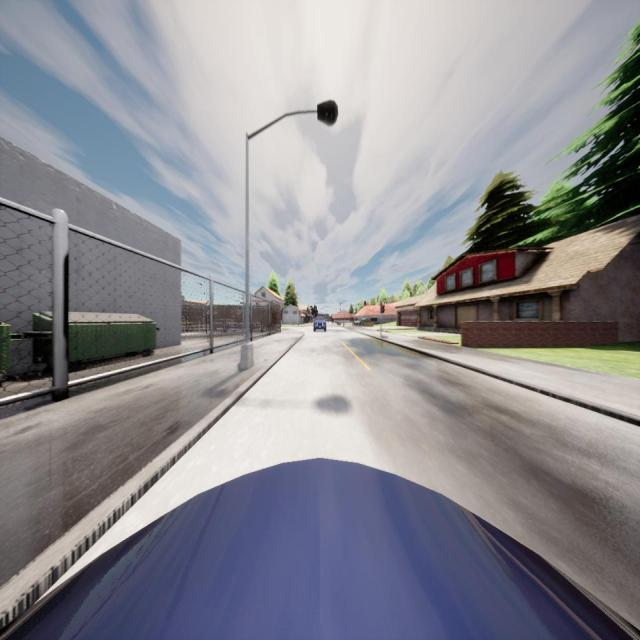Vehicle: (0, 460, 640, 640), (313, 316, 327, 332)
traffic_light: (380, 302, 384, 312)
